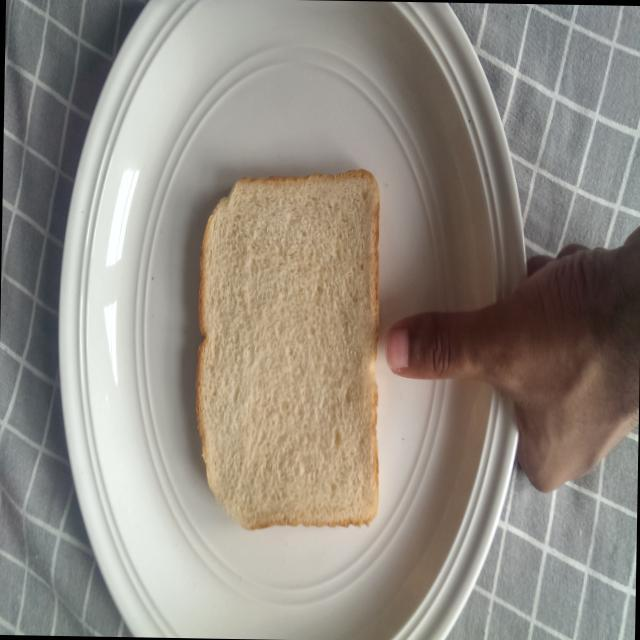Bread: (183, 148, 390, 536)
Finger: (378, 294, 461, 389)
